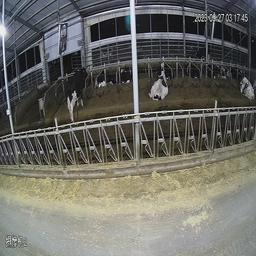cow: (63, 56, 89, 123), (148, 61, 171, 104), (238, 69, 254, 106), (189, 38, 207, 69), (209, 59, 230, 85), (94, 65, 112, 95), (181, 55, 199, 85), (116, 58, 131, 88)
